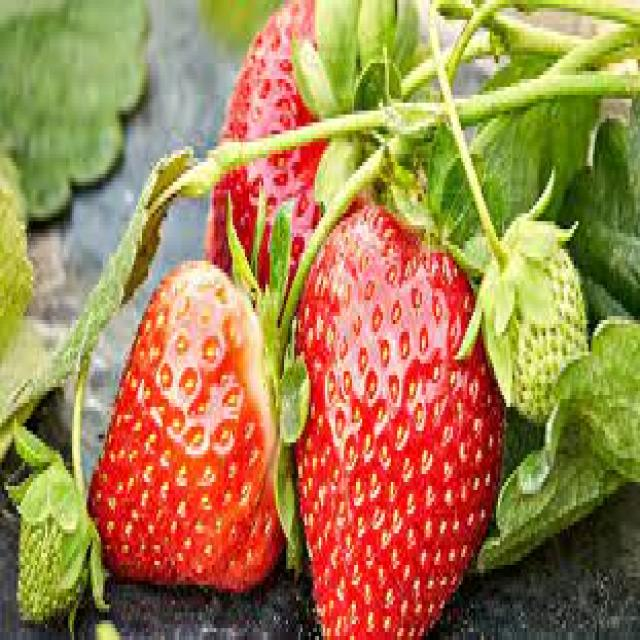strawberry: (293, 189, 505, 640), (75, 260, 302, 595)
